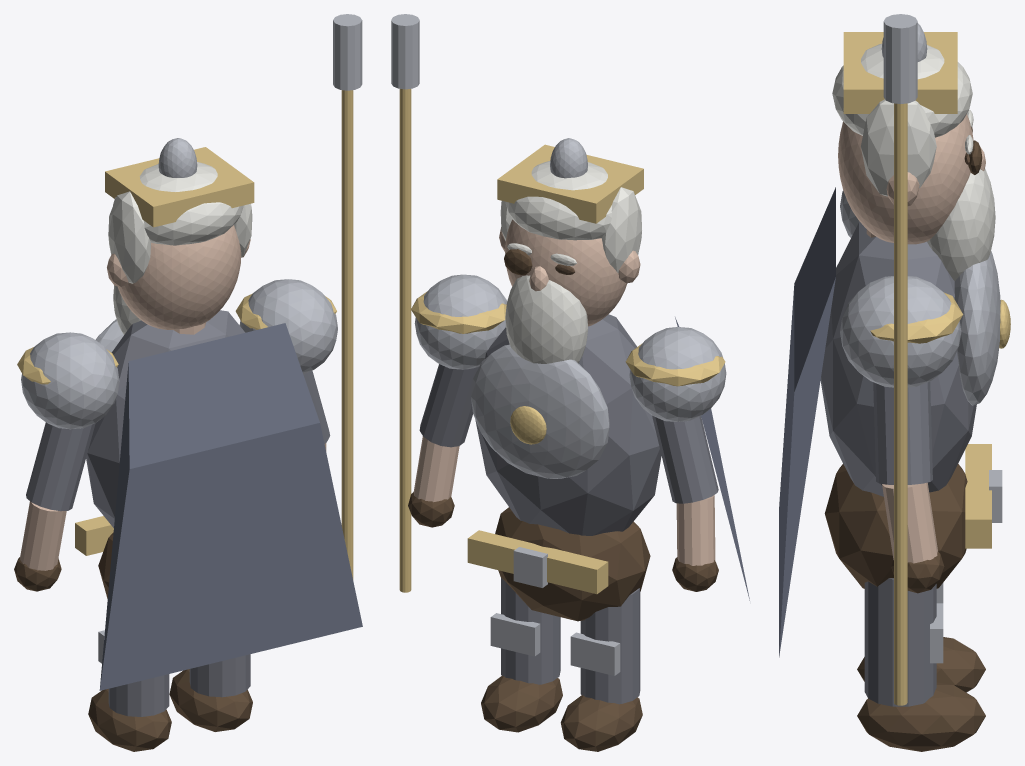
File: odin.glb
3 renders of one model, left to right at view 1: azimuth 30°, elevation 25°; view 2: azimuth 150°, elevation 25°; view 3: azimuth 270°, elevation 25°, orthographic. The views are drawn at different scales.
Visible parts, largest first — view 1: odin_38_Draped cape, odin_23_Face, odin_12_Shoulder pauldron, odin_0_Armored torso, odin_39_Spear shaft, odin_36_Royal circlet, odin_17_Shoulder pauldron, odin_13_Upper arm, odin_31_Hair, odin_7_Boot, odin_10_Boot, odin_32_Side lock (+12 smaller); view 2: odin_0_Armored torso, odin_2_Chest plate, odin_1_Waist and belt, odin_39_Spear shaft, odin_34_Long white beard, odin_12_Shoulder pauldron, odin_17_Shoulder pauldron, odin_23_Face, odin_36_Royal circlet, odin_6_Greave, odin_31_Hair, odin_4_Ornate belt (+19 smaller); view 3: odin_0_Armored torso, odin_38_Draped cape, odin_39_Spear shaft, odin_1_Waist and belt, odin_17_Shoulder pauldron, odin_23_Face, odin_9_Greave, odin_10_Boot, odin_2_Chest plate, odin_36_Royal circlet, odin_18_Upper arm, odin_34_Long white beard (+13 smaller).
Boxes of the visible parts, left/top/right/bottom form: odin_38_Draped cape: left=99, top=323, right=362, bottom=690; odin_23_Face: left=117, top=225, right=241, bottom=329; odin_12_Shoulder pauldron: left=21, top=332, right=119, bottom=429; odin_0_Armored torso: left=86, top=310, right=245, bottom=527; odin_39_Spear shaft: left=341, top=90, right=353, bottom=579; odin_36_Royal circlet: left=105, top=147, right=254, bottom=227; odin_17_Shoulder pauldron: left=239, top=279, right=337, bottom=374; odin_13_Upper arm: left=26, top=422, right=95, bottom=511; odin_31_Hair: left=113, top=162, right=243, bottom=245; odin_7_Boot: left=88, top=689, right=171, bottom=751; odin_10_Boot: left=169, top=669, right=252, bottom=731; odin_32_Side lock: left=108, top=191, right=150, bottom=283; odin_0_Armored torso: left=475, top=314, right=661, bottom=535; odin_2_Chest plate: left=471, top=344, right=609, bottom=478; odin_1_Waist and belt: left=495, top=507, right=650, bottom=621; odin_39_Spear shaft: left=399, top=89, right=411, bottom=592; odin_34_Long white beard: left=505, top=275, right=588, bottom=363; odin_12_Shoulder pauldron: left=629, top=327, right=726, bottom=421; odin_17_Shoulder pauldron: left=414, top=274, right=507, bottom=369; odin_23_Face: left=505, top=219, right=627, bottom=326; odin_36_Royal circlet: left=497, top=144, right=643, bottom=223; odin_6_Greave: left=580, top=588, right=640, bottom=704; odin_31_Hair: left=505, top=161, right=612, bottom=240; odin_4_Ornate belt: left=467, top=530, right=608, bottom=594; odin_0_Armored torso: left=820, top=222, right=976, bottom=496; odin_38_Draped cape: left=779, top=187, right=835, bottom=657; odin_39_Spear shaft: left=894, top=103, right=907, bottom=705; odin_1_Waist and belt: left=824, top=464, right=967, bottom=588; odin_17_Shoulder pauldron: left=840, top=276, right=961, bottom=387; odin_23_Face: left=838, top=114, right=973, bottom=244; odin_9_Greave: left=864, top=578, right=936, bottom=706; odin_10_Boot: left=857, top=682, right=985, bottom=751; odin_2_Chest plate: left=954, top=251, right=1000, bottom=405; odin_36_Royal circlet: left=843, top=32, right=957, bottom=113; odin_18_Upper arm: left=873, top=381, right=932, bottom=484; odin_34_Long white beard: left=927, top=168, right=995, bottom=280.
Bounding box in the file's own units: 1.2 × 2.32 × 0.61.
